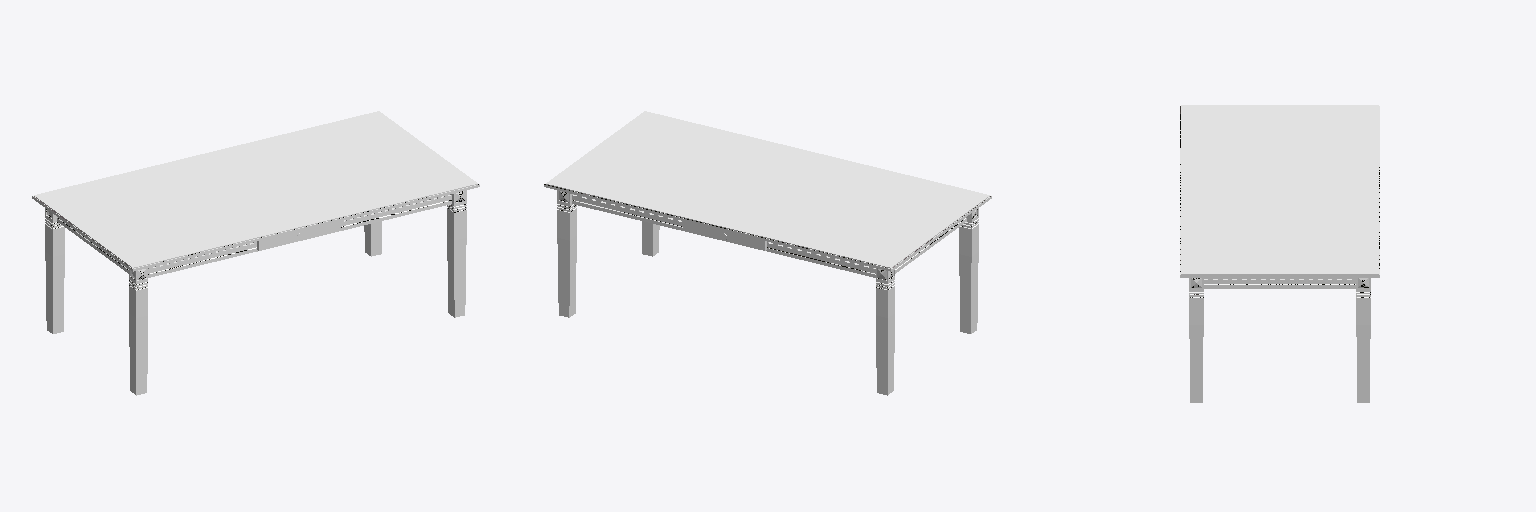
The picture shows the model from 3 angles: view 1: azimuth 30°, elevation 25°; view 2: azimuth 150°, elevation 25°; view 3: azimuth 270°, elevation 25°; orthographic projection.
Parts seen in each view (by area): view 1: mesh1_mesh1-geometry; view 2: mesh1_mesh1-geometry, mesh2_mesh2-geometry; view 3: mesh1_mesh1-geometry.
Part boxes in pixels (x1,y1,x2,y2): mesh1_mesh1-geometry: (32, 111, 479, 395); mesh1_mesh1-geometry: (544, 111, 991, 395); mesh2_mesh2-geometry: (683, 221, 766, 250); mesh1_mesh1-geometry: (1180, 105, 1379, 402).
Bounding box in the file's own units: 0.8499 × 0.3116 × 0.425.
8 materials, 3 textured.